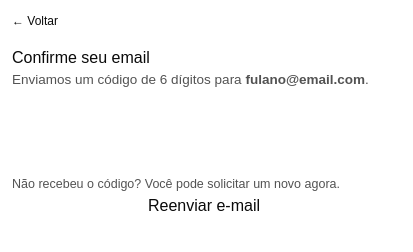
ConfirmationForm › reenviar código limpa e reabilita os campos e reinicia o contador em 60s
Click the button "Reenviar e-mail": click(204, 206) [12,194,396,218]
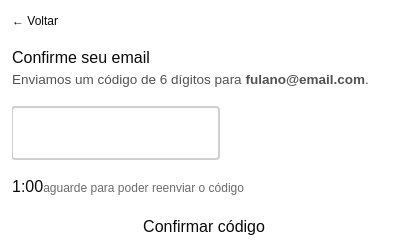
Expected: the field named "Dígito 1 do código" is enabled, [12,107,219,159]
Result: the text "1:00" is shown at [12,175,43,199]
